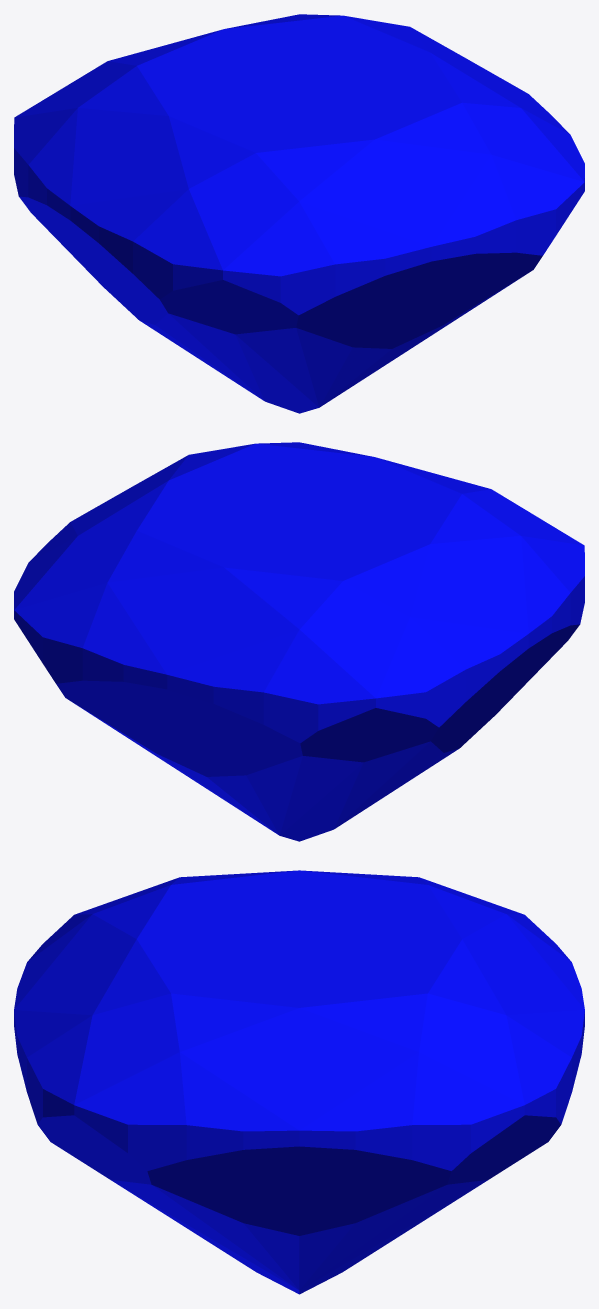
The model's file is Jewel01.fbx.
3 views of the same model, one above another, from view 1: azimuth 30°, elevation 25°; view 2: azimuth 150°, elevation 25°; view 3: azimuth 270°, elevation 25° (orthographic). The views are drawn at different scales.
Parts seen in each view (by area): view 1: Cushion.002; view 2: Cushion.002; view 3: Cushion.002.
Boxes of the visible parts, x1,y1,x2,y2 form: Cushion.002: (14, 14, 584, 413); Cushion.002: (14, 442, 584, 841); Cushion.002: (14, 870, 584, 1294).
Bounding box in the file's own units: 0.1 × 0.0687 × 0.1.
